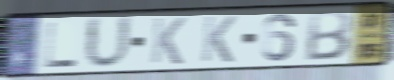6: (261, 12, 297, 63)
B: (302, 10, 355, 62)
K: (199, 15, 239, 65), (149, 16, 188, 66)
L: (43, 20, 80, 70)
U: (82, 13, 135, 71)
